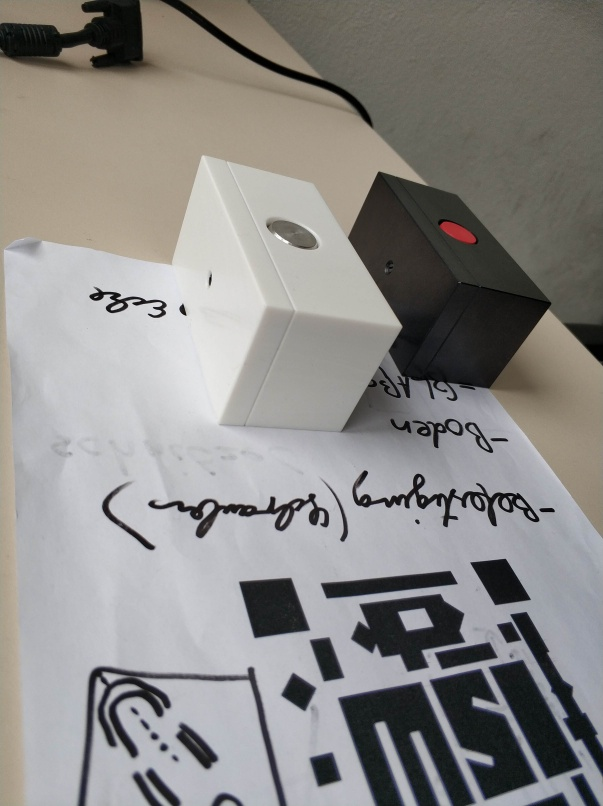black+black+red: (343, 171, 554, 390)
white+white+silver: (169, 152, 406, 436)
